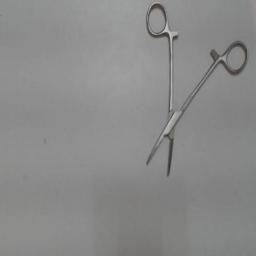Mayo Needle Holder: (138, 0, 254, 184)
